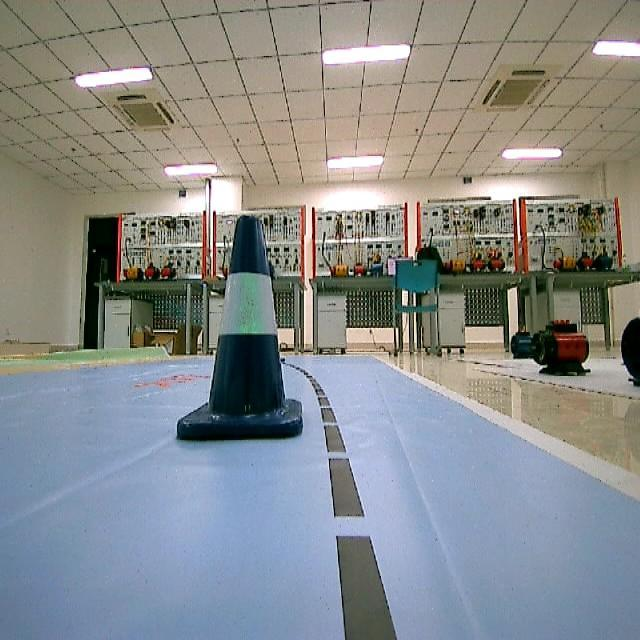obstacle: (175, 206, 312, 450)
